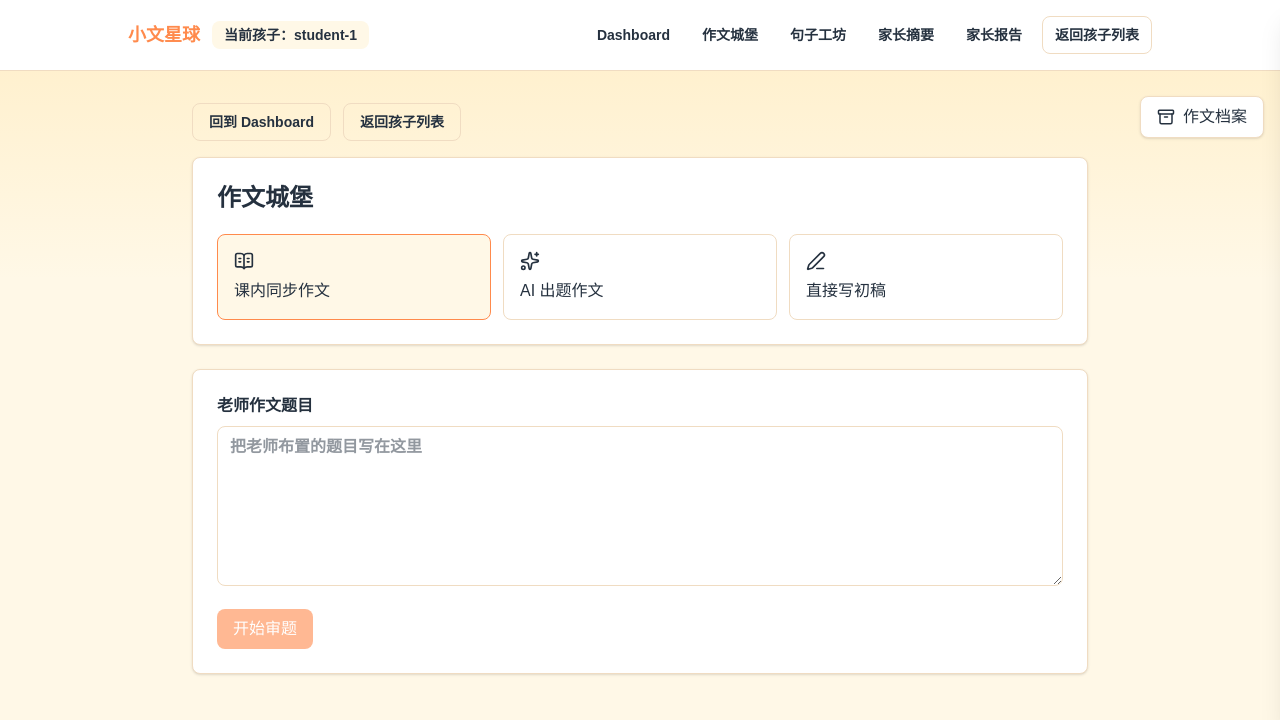
Test: essay archive drawer renders at most three items
Click the button "作文档案".
click(1202, 117)  # box [1140,96,1264,138]
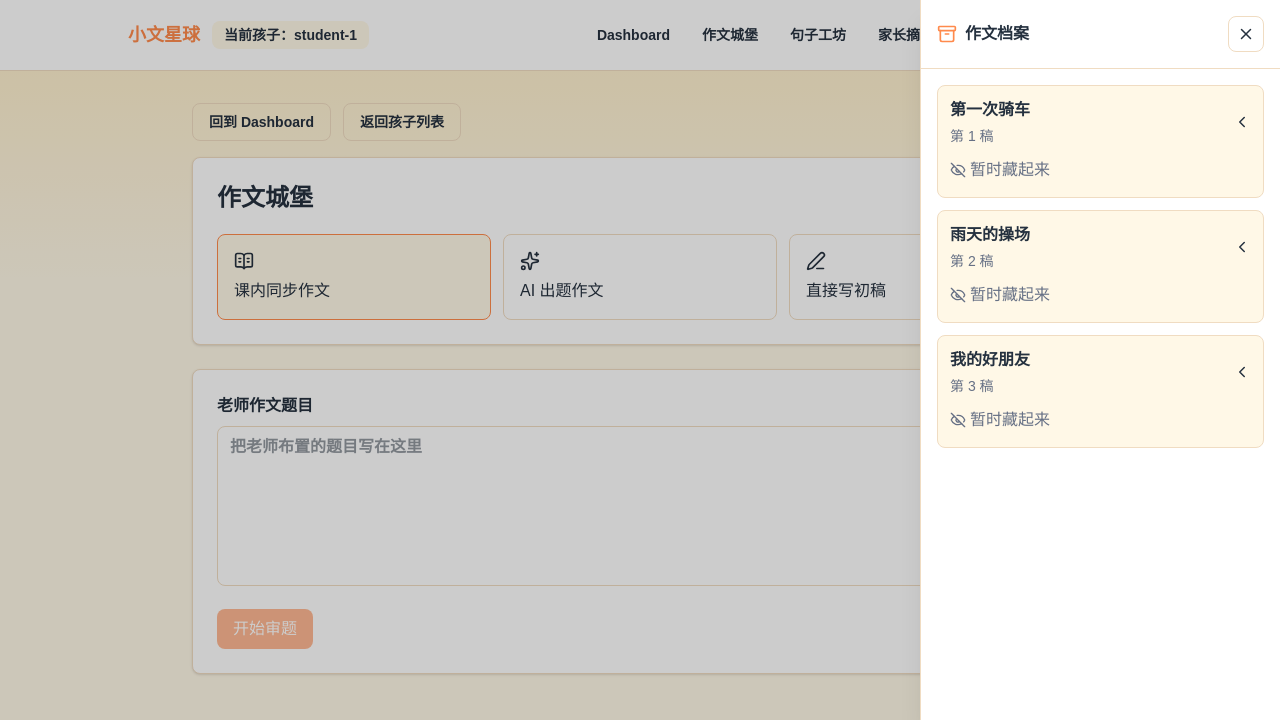
Now the button "第一次骑车 第 1 稿" is shown, box [950,98,1251,146]
Now the button "雨天的操场 第 2 稿" is shown, box [950,223,1251,271]
Now the button "我的好朋友 第 3 稿" is shown, box [950,348,1251,396]
